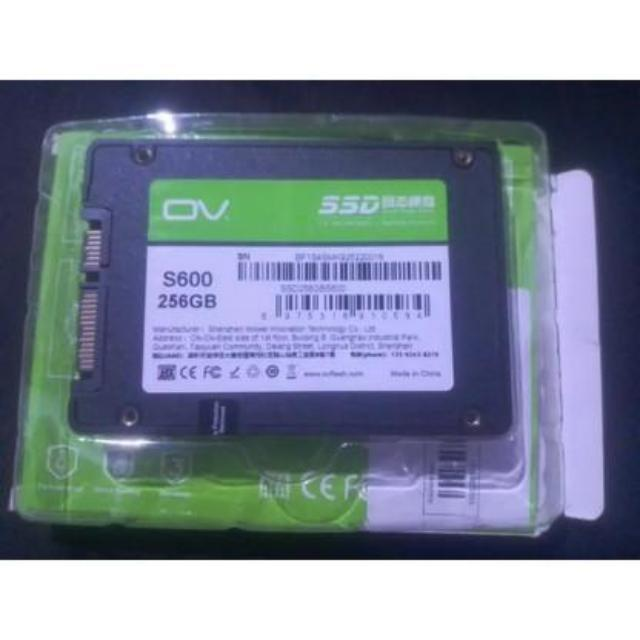DISK: (67, 126, 518, 448)
